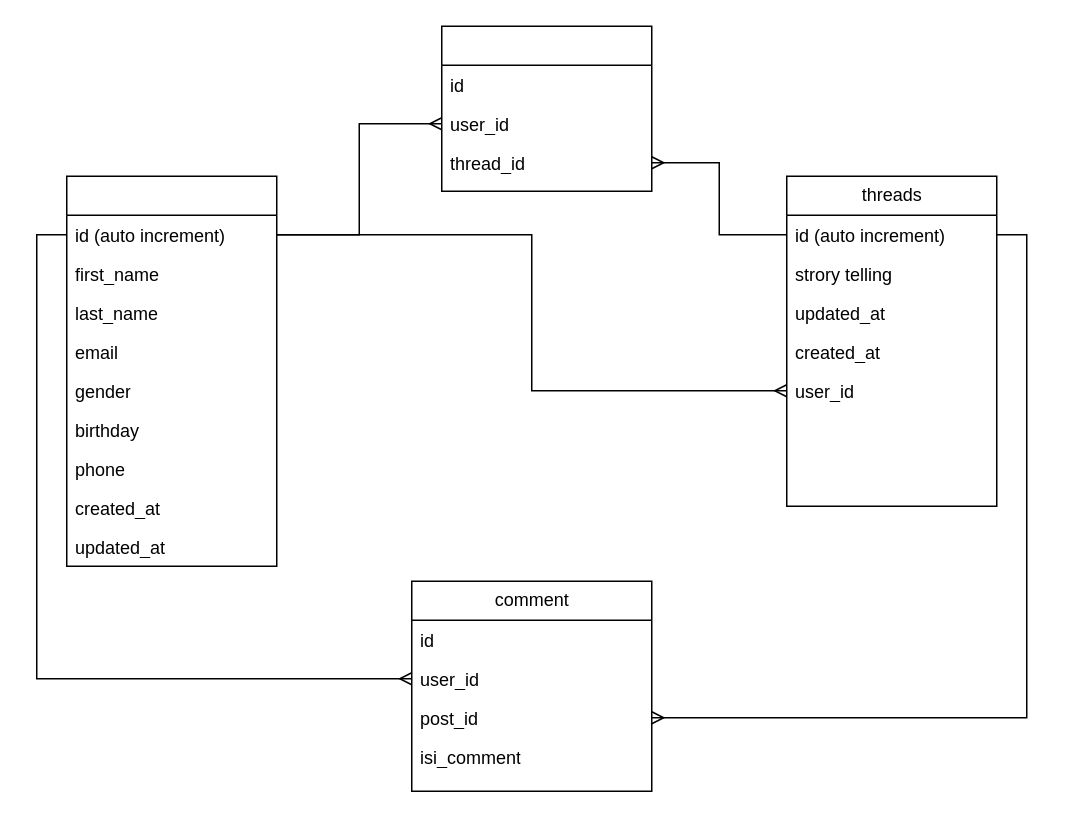
Some shapes in this 1065 by 818 pixel diagram are drawn without their labels. Each missing label, with the box of its shape:
users: (65, 175, 277, 566)
vote: (440, 25, 652, 191)
